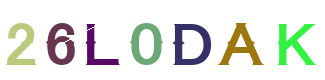0: (115, 0, 195, 80)
2: (22, 0, 102, 80)
6: (34, 0, 114, 80)
A: (200, 0, 280, 80)
D: (123, 0, 203, 80)
K: (244, 0, 324, 80)
L: (105, 0, 185, 80)
